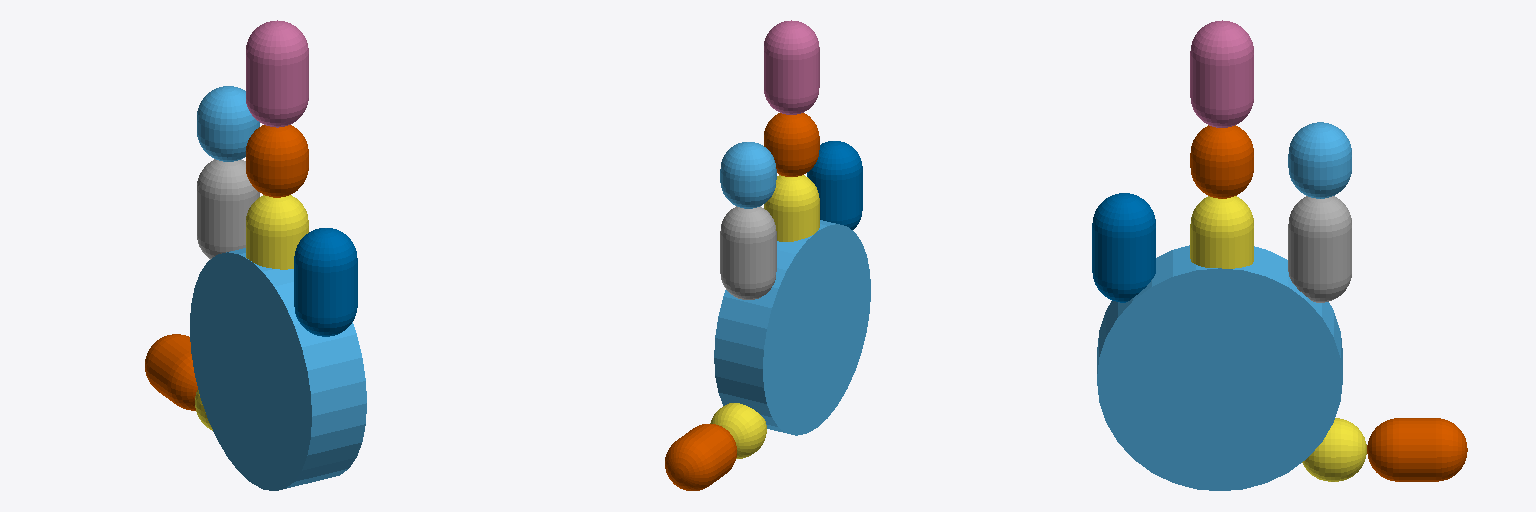
The robot description file, URDF, robot "DexterousHand":
<?xml version="1.0"?>
<robot name="DexterousHand">


    <link name="world"/>
    <joint name="world_to_palm" type="fixed">
        <parent link="world"/>
        <child link="palm"/>
        <origin xyz="0 0 0" rpy="0 0 0"/>
    </joint>
    <link name="palm">
        <inertial>
            <origin xyz="0 0 0.057" rpy="0 0 0"/>
            <mass value="0.30212892864"/>
            <inertia ixx="0.00049080844457568" ixy="0.0" ixz="0.0" iyy="0.00026746366246427523" iyz="0.0" izz="0.00026746366246427523"/>
        </inertial>
        <visual>
            <origin xyz="0 0 0.057" rpy="1.5708 0 1.5708"/>
            <geometry>
                <cylinder radius="0.057" length="0.0296"/>
            </geometry>
            <material name="default"/>
        </visual>
        <collision>
            <origin xyz="0 0 0.057" rpy="1.5708 0 1.5708"/>
            <geometry>
                <cylinder radius="0.057" length="0.0296"/>
            </geometry>
        </collision>
    </link>

    
    <joint name="thumb_joint1" type="revolute">
        <parent link="palm"/>
        <child link="thumb_base"/>
        <origin xyz="0.0029 0.0368 0.0157" rpy="-1.5708 -1.5708 0.0"/>
        <axis xyz="-1 0 0"/>
        <limit lower="-0.349" upper="2.094" effort="1.0" velocity="1.0"/>
    </joint>

    <link name="thumb_base"></link>

    <joint name="thumb_joint2" type="revolute">
        <parent link="thumb_base"/>
        <child link="thumb_proximal"/>
        <origin xyz="0.0 0.0 0.0" rpy="0.0 0.0 0.0"/>
        <axis xyz="0 0 1"/>
        <limit lower="-0.47" upper="2.443" effort="1.0" velocity="1.0"/>
    </joint>

    <link name="thumb_proximal">
        <inertial>
            <origin xyz="0 0 0.01565" rpy="0 0 0"/>
            <mass value="0.021538658803200002"/>
            <inertia ixx="2.9378910096388167e-06" ixy="0.0" ixz="0.0" 
            iyy="2.9378910096388167e-06" iyz="0.0" izz="2.358913912126464e-06"/>
        </inertial>
        <visual>
            <origin xyz="0 0 0.01565" rpy="0 0 0"/>
            <geometry>
                <cylinder radius="0.0148" length="0.0017000000000000001"/>
            </geometry>
            <material name="default"/>
        </visual>
        <visual>
            <origin xyz="0 0 0.0148" rpy="0 0 0"/>
            <geometry>
                <sphere radius="0.0148"/>
            </geometry>
            <material name="default"/>
        </visual>
        <visual>
            <origin xyz="0 0 0.0165" rpy="0 0 0"/>
            <geometry>
                <sphere radius="0.0148"/>
            </geometry>
            <material name="default"/>
        </visual>
        <collision>
            <origin xyz="0 0 0.01565" rpy="0 0 0"/>
            <geometry>
                <cylinder radius="0.0148" length="0.0017000000000000001"/>
            </geometry>
        </collision>
        <collision>
            <origin xyz="0 0 0.0148" rpy="0 0 0"/>
            <geometry>
                <sphere radius="0.0148"/>
            </geometry>
        </collision>
        <collision>
            <origin xyz="0 0 0.0165" rpy="0 0 0"/>
            <geometry>
                <sphere radius="0.0148"/>
            </geometry>
        </collision>
    </link>

    <joint name="thumb_joint3" type="revolute">
        <parent link="thumb_proximal"/>
        <child link="thumb_knuckle"/>
        <origin xyz="0.0 0.0 0.0313" rpy="0.0 0.0 0.0"/>
        <axis xyz="1 0 0"/>
        <limit lower="0.0" upper="0.0" effort="1.0" velocity="1.0"/>
    </joint>

    <link name="thumb_knuckle"></link>

    <joint name="thumb_joint4" type="revolute">
        <parent link="thumb_knuckle"/>
        <child link="thumb_middle"/>
        <origin xyz="0 0 0" rpy="0 0 0"/> 
        <axis xyz="0 1 0"/>
        <limit lower="-1.2" upper="1.9" effort="1.0" velocity="1.0"/>
    </joint>

    <link name="thumb_middle">
        <inertial>
            <origin xyz="0 0 0.0233" rpy="0 0 0"/>
            <mass value="0.032067140582400004"/>
            <inertia ixx="7.5589732685519385e-06" ixy="0.0" ixz="0.0" 
            iyy="7.5589732685519385e-06" iyz="0.0" izz="3.5119932365844485e-06"/>
        </inertial>
        <visual>
            <origin xyz="0 0 0.0233" rpy="0 0 0"/>
            <geometry>
                <cylinder radius="0.0148" length="0.017"/>
            </geometry>
            <material name="default"/>
        </visual>
        <visual>
            <origin xyz="0 0 0.0148" rpy="0 0 0"/>
            <geometry>
                <sphere radius="0.0148"/>
            </geometry>
            <material name="default"/>
        </visual>
        <visual>
            <origin xyz="0 0 0.0318" rpy="0 0 0"/>
            <geometry>
                <sphere radius="0.0148"/>
            </geometry>
            <material name="default"/>
        </visual>
        <collision>
            <origin xyz="0 0 0.0233" rpy="0 0 0"/>
            <geometry>
                <cylinder radius="0.0148" length="0.017"/>
            </geometry>
        </collision>
        <collision>
            <origin xyz="0 0 0.0148" rpy="0 0 0"/>
            <geometry>
                <sphere radius="0.0148"/>
            </geometry>
        </collision>
        <collision>
            <origin xyz="0 0 0.0318" rpy="0 0 0"/>
            <geometry>
                <sphere radius="0.0148"/>
            </geometry>
        </collision>
    </link>

    <joint name="thumb_joint5" type="revolute">
        <parent link="thumb_middle"/>
        <child link="thumb_distal"/>
        <origin xyz="0 0 0.0466" rpy="0 0 0"/> 
        <axis xyz="0 1 0"/>
        <limit lower="0.0" upper="0.0" effort="1.0" velocity="1.0"/>
    </joint>

    <link name="thumb_distal">
    </link>

    
    <joint name="index_joint1" type="revolute">
        <parent link="palm"/>
        <child link="index_proximal"/>
        <origin xyz="0.0 0.0465 0.091" rpy="0.0 0.0 0.0"/>
        <axis xyz="0 1 0"/>
        <limit lower="-0.314" upper="2.23" effort="1.0" velocity="1.0"/>
    </joint>

    <link name="index_proximal">
        <inertial>
            <origin xyz="0 0 0.02655" rpy="0 0 0"/>
            <mass value="0.036540024998400006"/>
            <inertia ixx="1.058665009272394e-05" ixy="0.0" ixz="0.0" 
            iyy="1.058665009272394e-05" iyz="0.0" izz="4.001863537824769e-06"/>
        </inertial>
        <visual>
            <origin xyz="0 0 0.02655" rpy="0 0 0"/>
            <geometry>
                <cylinder radius="0.0148" length="0.0235"/>
            </geometry>
            <material name="default"/>
        </visual>
        <visual>
            <origin xyz="0 0 0.0148" rpy="0 0 0"/>
            <geometry>
                <sphere radius="0.0148"/>
            </geometry>
            <material name="default"/>
        </visual>
        <visual>
            <origin xyz="0 0 0.0383" rpy="0 0 0"/>
            <geometry>
                <sphere radius="0.0148"/>
            </geometry>
            <material name="default"/>
        </visual>
        <collision>
            <origin xyz="0 0 0.02655" rpy="0 0 0"/>
            <geometry>
                <cylinder radius="0.0148" length="0.0235"/>
            </geometry>
        </collision>
        <collision>
            <origin xyz="0 0 0.0148" rpy="0 0 0"/>
            <geometry>
                <sphere radius="0.0148"/>
            </geometry>
        </collision>
        <collision>
            <origin xyz="0 0 0.0383" rpy="0 0 0"/>
            <geometry>
                <sphere radius="0.0148"/>
            </geometry>
        </collision>
    </link>

    <joint name="index_joint2" type="revolute">
        <parent link="index_proximal"/>
        <child link="index_dummy"/>
        <origin xyz="0.0 0.0 0.038" rpy="0.0 0.0 0.0"/>
        <axis xyz="1 0 0"/>
        <limit lower="-1.047" upper="1.047" effort="1.0" velocity="1.0"/>
    </joint>

    <link name="index_dummy"></link>

    <joint name="index_joint3" type="revolute">
        <parent link="index_dummy"/>
        <child link="index_middle"/>
        <origin xyz="0 0 0.015100000000000002" rpy="0 0 0"/>
        <axis xyz="0 1 0"/>
        <limit lower="-0.506" upper="1.885" effort="1.0" velocity="1.0"/>
    </joint>

    <link name="index_middle">
        <inertial>
            <origin xyz="0 0 0.01805" rpy="0 0 0"/>
            <mass value="0.0248417119104"/>
            <inertia ixx="4.058162759109537e-06" ixy="0.0" ixz="0.0" 
            iyy="4.058162759109537e-06" iyz="0.0" izz="2.7206642884270085e-06"/>
        </inertial>
        <visual>
            <origin xyz="0 0 0.01805" rpy="0 0 0"/>
            <geometry>
                <cylinder radius="0.0148" length="0.006499999999999999"/>
            </geometry>
            <material name="default"/>
        </visual>
        <visual>
            <origin xyz="0 0 0.0148" rpy="0 0 0"/>
            <geometry>
                <sphere radius="0.0148"/>
            </geometry>
            <material name="default"/>
        </visual>
        <visual>
            <origin xyz="0 0 0.0213" rpy="0 0 0"/>
            <geometry>
                <sphere radius="0.0148"/>
            </geometry>
            <material name="default"/>
        </visual>
        <collision>
            <origin xyz="0 0 0.01805" rpy="0 0 0"/>
            <geometry>
                <cylinder radius="0.0148" length="0.006499999999999999"/>
            </geometry>
        </collision>
        <collision>
            <origin xyz="0 0 0.0148" rpy="0 0 0"/>
            <geometry>
                <sphere radius="0.0148"/>
            </geometry>
        </collision>
        <collision>
            <origin xyz="0 0 0.0213" rpy="0 0 0"/>
            <geometry>
                <sphere radius="0.0148"/>
            </geometry>
        </collision>
    </link>

    <joint name="index_joint4" type="revolute">
        <parent link="index_middle"/>
        <child link="index_distal"/>
        <origin xyz="0 0 0.0361" rpy="0 0 0"/> 
        <axis xyz="0 1 0"/>
        <limit lower="0.0" upper="0.0" effort="1.0" velocity="1.0"/>
    </joint>

    <link name="index_distal">
    </link>

    
    <joint name="middle_joint1" type="revolute">
        <parent link="palm"/>
        <child link="middle_proximal"/>
        <origin xyz="0.0 0.0011 0.091" rpy="0.0 0.0 0.0"/>
        <axis xyz="0 1 0"/>
        <limit lower="-0.314" upper="2.23" effort="1.0" velocity="1.0"/>
    </joint>

    <link name="middle_proximal">
        <inertial>
            <origin xyz="0 0 0.02655" rpy="0 0 0"/>
            <mass value="0.036540024998400006"/>
            <inertia ixx="1.058665009272394e-05" ixy="0.0" ixz="0.0" 
            iyy="1.058665009272394e-05" iyz="0.0" izz="4.001863537824769e-06"/>
        </inertial>
        <visual>
            <origin xyz="0 0 0.02655" rpy="0 0 0"/>
            <geometry>
                <cylinder radius="0.0148" length="0.0235"/>
            </geometry>
            <material name="default"/>
        </visual>
        <visual>
            <origin xyz="0 0 0.0148" rpy="0 0 0"/>
            <geometry>
                <sphere radius="0.0148"/>
            </geometry>
            <material name="default"/>
        </visual>
        <visual>
            <origin xyz="0 0 0.0383" rpy="0 0 0"/>
            <geometry>
                <sphere radius="0.0148"/>
            </geometry>
            <material name="default"/>
        </visual>
        <collision>
            <origin xyz="0 0 0.02655" rpy="0 0 0"/>
            <geometry>
                <cylinder radius="0.0148" length="0.0235"/>
            </geometry>
        </collision>
        <collision>
            <origin xyz="0 0 0.0148" rpy="0 0 0"/>
            <geometry>
                <sphere radius="0.0148"/>
            </geometry>
        </collision>
        <collision>
            <origin xyz="0 0 0.0383" rpy="0 0 0"/>
            <geometry>
                <sphere radius="0.0148"/>
            </geometry>
        </collision>
    </link>

    <joint name="middle_joint2" type="revolute">
        <parent link="middle_proximal"/>
        <child link="middle_dummy"/>
        <origin xyz="0.0 0.0 0.038" rpy="0.0 0.0 0.0"/>
        <axis xyz="1 0 0"/>
        <limit lower="-1.047" upper="1.047" effort="1.0" velocity="1.0"/>
    </joint>

    <link name="middle_dummy"></link>

    <joint name="middle_joint3" type="revolute">
        <parent link="middle_dummy"/>
        <child link="middle_middle"/>
        <origin xyz="0 0 0.015100000000000002" rpy="0 0 0"/>
        <axis xyz="0 1 0"/>
        <limit lower="-0.506" upper="1.885" effort="1.0" velocity="1.0"/>
    </joint>

    <link name="middle_middle">
        <inertial>
            <origin xyz="0 0 0.01805" rpy="0 0 0"/>
            <mass value="0.0248417119104"/>
            <inertia ixx="4.058162759109537e-06" ixy="0.0" ixz="0.0" 
            iyy="4.058162759109537e-06" iyz="0.0" izz="2.7206642884270085e-06"/>
        </inertial>
        <visual>
            <origin xyz="0 0 0.01805" rpy="0 0 0"/>
            <geometry>
                <cylinder radius="0.0148" length="0.006499999999999999"/>
            </geometry>
            <material name="default"/>
        </visual>
        <visual>
            <origin xyz="0 0 0.0148" rpy="0 0 0"/>
            <geometry>
                <sphere radius="0.0148"/>
            </geometry>
            <material name="default"/>
        </visual>
        <visual>
            <origin xyz="0 0 0.0213" rpy="0 0 0"/>
            <geometry>
                <sphere radius="0.0148"/>
            </geometry>
            <material name="default"/>
        </visual>
        <collision>
            <origin xyz="0 0 0.01805" rpy="0 0 0"/>
            <geometry>
                <cylinder radius="0.0148" length="0.006499999999999999"/>
            </geometry>
        </collision>
        <collision>
            <origin xyz="0 0 0.0148" rpy="0 0 0"/>
            <geometry>
                <sphere radius="0.0148"/>
            </geometry>
        </collision>
        <collision>
            <origin xyz="0 0 0.0213" rpy="0 0 0"/>
            <geometry>
                <sphere radius="0.0148"/>
            </geometry>
        </collision>
    </link>

    <joint name="middle_joint4" type="revolute">
        <parent link="middle_middle"/>
        <child link="middle_distal"/>
        <origin xyz="0 0 0.0361" rpy="0 0 0"/> 
        <axis xyz="0 1 0"/>
        <limit lower="-0.366" upper="2.042" effort="1.0" velocity="1.0"/>
    </joint>

    <link name="middle_distal">
        <inertial>
            <origin xyz="0 0 0.026" rpy="0 0 0"/>
            <mass value="0.035783075328"/>
            <inertia ixx="1.002260084553728e-05" ixy="0.0" ixz="0.0" 
            iyy="1.002260084553728e-05" iyz="0.0" izz="3.91896240992256e-06"/>
        </inertial>
        <visual>
            <origin xyz="0 0 0.026" rpy="0 0 0"/>
            <geometry>
                <cylinder radius="0.0148" length="0.022399999999999996"/>
            </geometry>
            <material name="default"/>
        </visual>
        <visual>
            <origin xyz="0 0 0.0148" rpy="0 0 0"/>
            <geometry>
                <sphere radius="0.0148"/>
            </geometry>
            <material name="default"/>
        </visual>
        <visual>
            <origin xyz="0 0 0.0372" rpy="0 0 0"/>
            <geometry>
                <sphere radius="0.0148"/>
            </geometry>
            <material name="default"/>
        </visual>
        <collision>
            <origin xyz="0 0 0.026" rpy="0 0 0"/>
            <geometry>
                <cylinder radius="0.0148" length="0.022399999999999996"/>
            </geometry>
        </collision>
        <collision>
            <origin xyz="0 0 0.0148" rpy="0 0 0"/>
            <geometry>
                <sphere radius="0.0148"/>
            </geometry>
        </collision>
        <collision>
            <origin xyz="0 0 0.0372" rpy="0 0 0"/>
            <geometry>
                <sphere radius="0.0148"/>
            </geometry>
        </collision>
    </link>

    
    <joint name="ring_joint1" type="revolute">
        <parent link="palm"/>
        <child link="ring_proximal"/>
        <origin xyz="0.0 0.0 0.0" rpy="0.0 0.0 0.0"/>
        <axis xyz="1 0 0"/>
        <limit lower="0.0" upper="0.0" effort="1.0" velocity="1.0"/>
    </joint>

    <link name="ring_proximal">
    </link>

    <joint name="ring_joint2" type="revolute">
        <parent link="ring_proximal"/>
        <child link="ring_dummy"/>
        <origin xyz="0.0 0.0 0.0" rpy="0.0 0.0 0.0"/>
        <axis xyz="0 1 0"/>
        <limit lower="0.0" upper="0.0" effort="1.0" velocity="1.0"/>
    </joint>

    <link name="ring_dummy"></link>

    <joint name="ring_joint3" type="revolute">
        <parent link="ring_dummy"/>
        <child link="ring_middle"/>
        <origin xyz="0 0 0" rpy="0 0 0"/>
        <axis xyz="0 1 0"/>
        <limit lower="0.0" upper="0.0" effort="1.0" velocity="1.0"/>
    </joint>

    <link name="ring_middle">
    </link>

    <joint name="ring_joint4" type="revolute">
        <parent link="ring_middle"/>
        <child link="ring_distal"/>
        <origin xyz="0 0 0" rpy="0 0 0"/> 
        <axis xyz="0 1 0"/>
        <limit lower="0.0" upper="0.0" effort="1.0" velocity="1.0"/>
    </joint>

    <link name="ring_distal">
    </link>

    
    <joint name="little_joint0" type="revolute">
        <parent link="palm"/>
        <child link="little_base"/>
        <origin xyz="0.0 0.0 0.0" rpy="0.0 0.0 0.0"/>
        <axis xyz="0 1 0"/>
        <limit lower="0.0" upper="0.0" effort="1.0" velocity="1.0"/>
    </joint>

    <link name="little_base"></link>

    <joint name="little_joint1" type="revolute">
        <parent link="little_base"/>
        <child link="little_proximal"/>
        <origin xyz="0.0 -0.0443 0.091" rpy="-0.0 -0.0 -0.0"/>
        <axis xyz="0 1 0"/>
        <limit lower="-0.314" upper="2.23" effort="1.0" velocity="1.0"/>
    </joint>

    <link name="little_proximal">
        <inertial>
            <origin xyz="0 0 0.02655" rpy="0 0 0"/>
            <mass value="0.036540024998400006"/>
            <inertia ixx="1.058665009272394e-05" ixy="0.0" ixz="0.0" 
            iyy="1.058665009272394e-05" iyz="0.0" izz="4.001863537824769e-06"/>
        </inertial>
        <visual>
            <origin xyz="0 0 0.02655" rpy="0 0 0"/>
            <geometry>
                <cylinder radius="0.0148" length="0.0235"/>
            </geometry>
            <material name="default"/>
        </visual>
        <visual>
            <origin xyz="0 0 0.0148" rpy="0 0 0"/>
            <geometry>
                <sphere radius="0.0148"/>
            </geometry>
            <material name="default"/>
        </visual>
        <visual>
            <origin xyz="0 0 0.0383" rpy="0 0 0"/>
            <geometry>
                <sphere radius="0.0148"/>
            </geometry>
            <material name="default"/>
        </visual>
        <collision>
            <origin xyz="0 0 0.02655" rpy="0 0 0"/>
            <geometry>
                <cylinder radius="0.0148" length="0.0235"/>
            </geometry>
        </collision>
        <collision>
            <origin xyz="0 0 0.0148" rpy="0 0 0"/>
            <geometry>
                <sphere radius="0.0148"/>
            </geometry>
        </collision>
        <collision>
            <origin xyz="0 0 0.0383" rpy="0 0 0"/>
            <geometry>
                <sphere radius="0.0148"/>
            </geometry>
        </collision>
    </link>

    <joint name="little_joint2" type="revolute">
        <parent link="little_proximal"/>
        <child link="little_dummy"/>
        <origin xyz="0.0 0.0 0.038" rpy="0.0 0.0 0.0"/>
        <axis xyz="0 1 0"/>
        <limit lower="0.0" upper="0.0" effort="1.0" velocity="1.0"/>
    </joint>

    <link name="little_dummy"></link>

    <joint name="little_joint3" type="revolute">
        <parent link="little_dummy"/>
        <child link="little_middle"/>
        <origin xyz="0 0 0.015100000000000002" rpy="0 0 0"/>
        <axis xyz="0 1 0"/>
        <limit lower="0.0" upper="0.0" effort="1.0" velocity="1.0"/>
    </joint>

    <link name="little_middle">
    </link>

    <joint name="little_joint4" type="revolute">
        <parent link="little_middle"/>
        <child link="little_distal"/>
        <origin xyz="0 0 0" rpy="0 0 0"/>
        <axis xyz="0 1 0"/>
        <limit lower="0.0" upper="0.0" effort="1.0" velocity="1.0"/>
    </joint>

    <link name="little_distal">
    </link>

</robot>

--- Facts derived from the render (not from the file) ---
Views: 3 orthographic renders of the robot side by side, from view 1: azimuth 30°, elevation 25°; view 2: azimuth 150°, elevation 25°; view 3: azimuth 270°, elevation 25°.
Robot: DexterousHand — 24 links, 23 joints (22 revolute, 1 fixed); root link world; default pose: every joint at zero.
Visible links, largest first — view 1: palm, little_proximal, middle_distal, index_proximal, middle_middle, middle_proximal, index_middle, thumb_middle; view 2: palm, index_proximal, middle_distal, little_proximal, thumb_middle, index_middle, middle_proximal, middle_middle, thumb_proximal; view 3: palm, middle_distal, little_proximal, index_proximal, thumb_middle, middle_proximal, index_middle, middle_middle, thumb_proximal.
Boxes of the visible links, bbox=[...] form: palm: bbox=[190, 248, 366, 490]; little_proximal: bbox=[294, 228, 357, 336]; middle_distal: bbox=[246, 20, 308, 127]; index_proximal: bbox=[197, 159, 259, 259]; middle_middle: bbox=[246, 125, 308, 197]; middle_proximal: bbox=[246, 195, 308, 269]; index_middle: bbox=[197, 86, 259, 161]; thumb_middle: bbox=[145, 334, 197, 410]; palm: bbox=[714, 220, 870, 435]; index_proximal: bbox=[720, 206, 776, 299]; middle_distal: bbox=[764, 20, 819, 114]; little_proximal: bbox=[807, 141, 862, 229]; thumb_middle: bbox=[665, 424, 736, 490]; index_middle: bbox=[720, 142, 776, 208]; middle_proximal: bbox=[764, 175, 819, 241]; middle_middle: bbox=[764, 113, 819, 176]; thumb_proximal: bbox=[710, 403, 766, 458]; palm: bbox=[1097, 245, 1342, 490]; middle_distal: bbox=[1190, 20, 1253, 127]; little_proximal: bbox=[1092, 193, 1155, 302]; index_proximal: bbox=[1288, 196, 1351, 302]; thumb_middle: bbox=[1367, 418, 1467, 481]; middle_proximal: bbox=[1190, 196, 1253, 268]; index_middle: bbox=[1288, 122, 1351, 198]; middle_middle: bbox=[1190, 125, 1253, 198]; thumb_proximal: bbox=[1302, 418, 1366, 481].
Bounding box of the posed robot: 0.0325 × 0.1738 × 0.2322 m (x, y, z).
Geometry: primitives only (box / cylinder / sphere), no mesh files.
